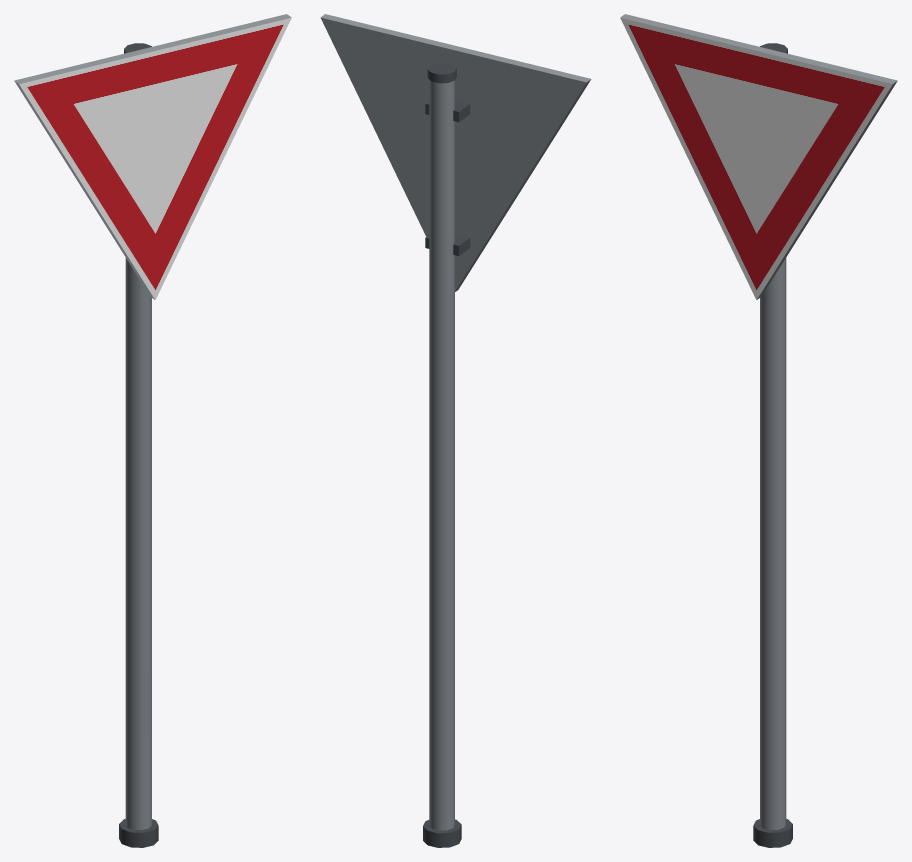
Rendered from placa-de-a-preferencia.glb.
3 renders of one model, left to right at view 1: azimuth 30°, elevation 25°; view 2: azimuth 150°, elevation 25°; view 3: azimuth 330°, elevation 25°, orthographic. The views are drawn at different scales.
Visible parts, largest first — view 1: Placa, Poste; view 2: Placa, Poste, Suportes; view 3: Placa, Poste.
Part boxes in pixels (x1,y1,x2,y2): Placa: [14, 14, 291, 299]; Poste: [119, 43, 158, 847]; Placa: [320, 14, 591, 291]; Poste: [423, 62, 461, 847]; Suportes: [425, 100, 470, 255]; Placa: [620, 14, 897, 299]; Poste: [753, 43, 792, 847].
Size of the model in its own units: 0.95 by 2.66 by 0.1571.
4 materials, 1 textured.
